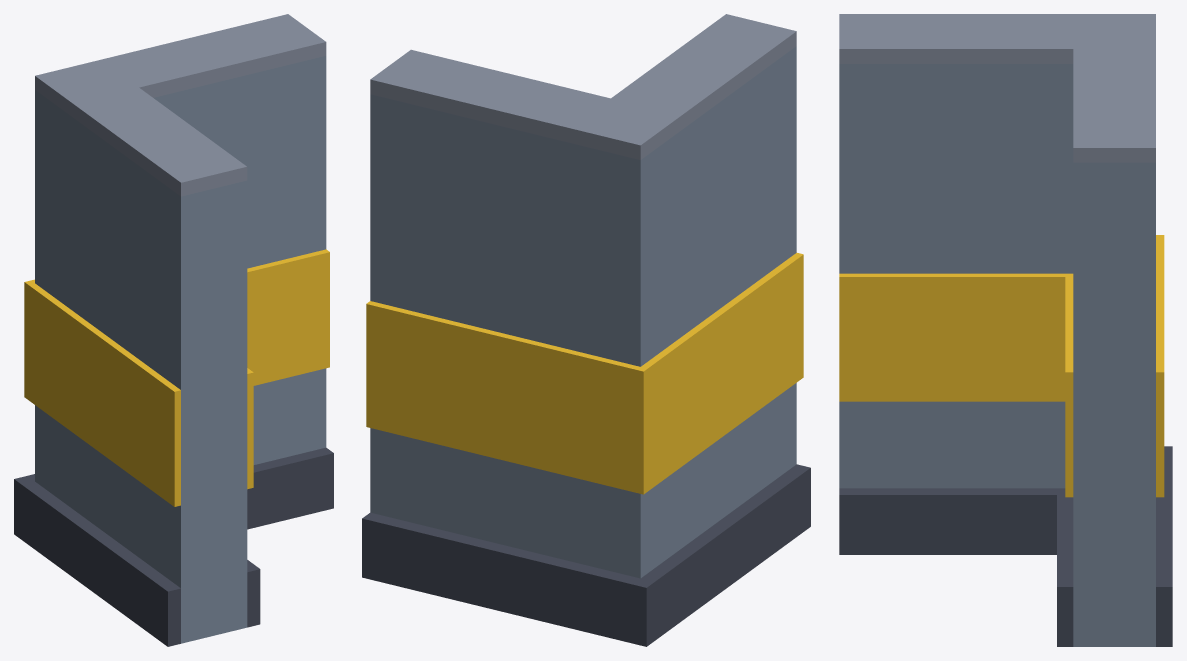
Rendered from partition-full-elbow.glb.
The picture shows the model from 3 angles, left to right: view 1: azimuth 30°, elevation 25°; view 2: azimuth 150°, elevation 25°; view 3: azimuth 270°, elevation 25°; orthographic projection. The views are drawn at different scales.
Visible parts, largest first — view 1: partition-full-elbow; view 2: partition-full-elbow; view 3: partition-full-elbow.
Boxes of the visible parts, x1,y1,x2,y2 form: partition-full-elbow: (14, 14, 333, 646); partition-full-elbow: (362, 14, 810, 646); partition-full-elbow: (839, 14, 1172, 646).
Bounding box in the file's own units: 0.605 × 1 × 0.605.
Materials: 1 (1 with a texture image).
